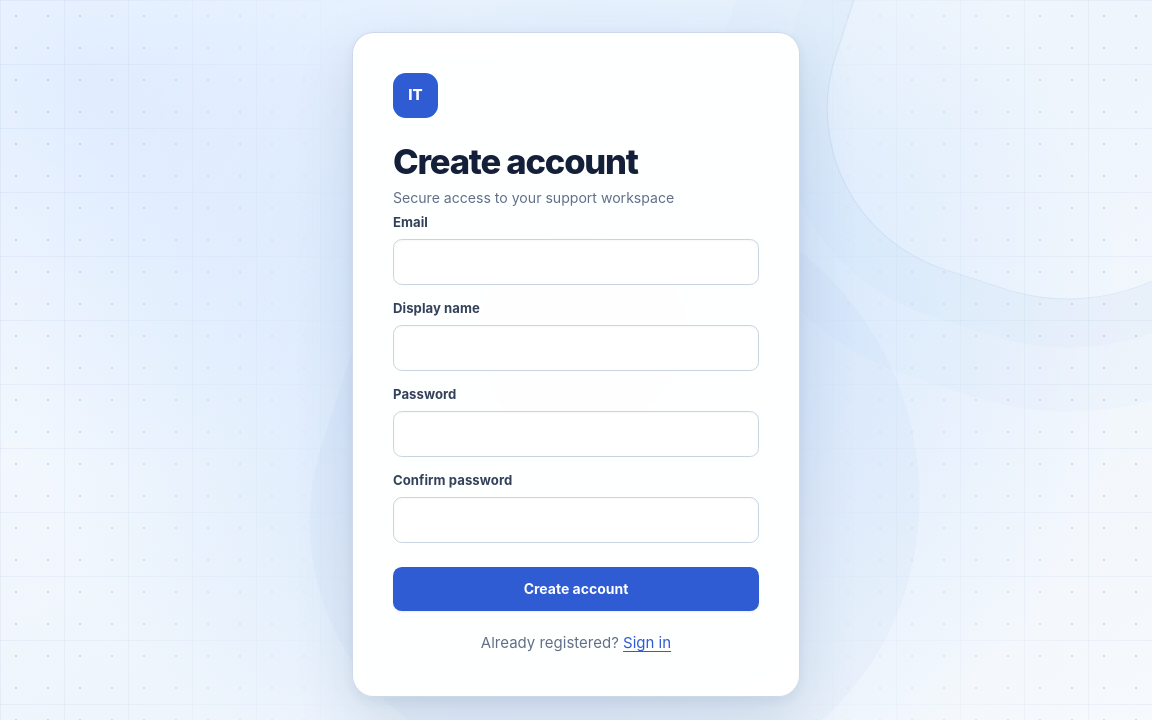
it: auth pages › validates password length and confirmation
Step 1. Type "a@b.test" into the field labelled "Email" → (576, 262), box [393, 239, 759, 285]
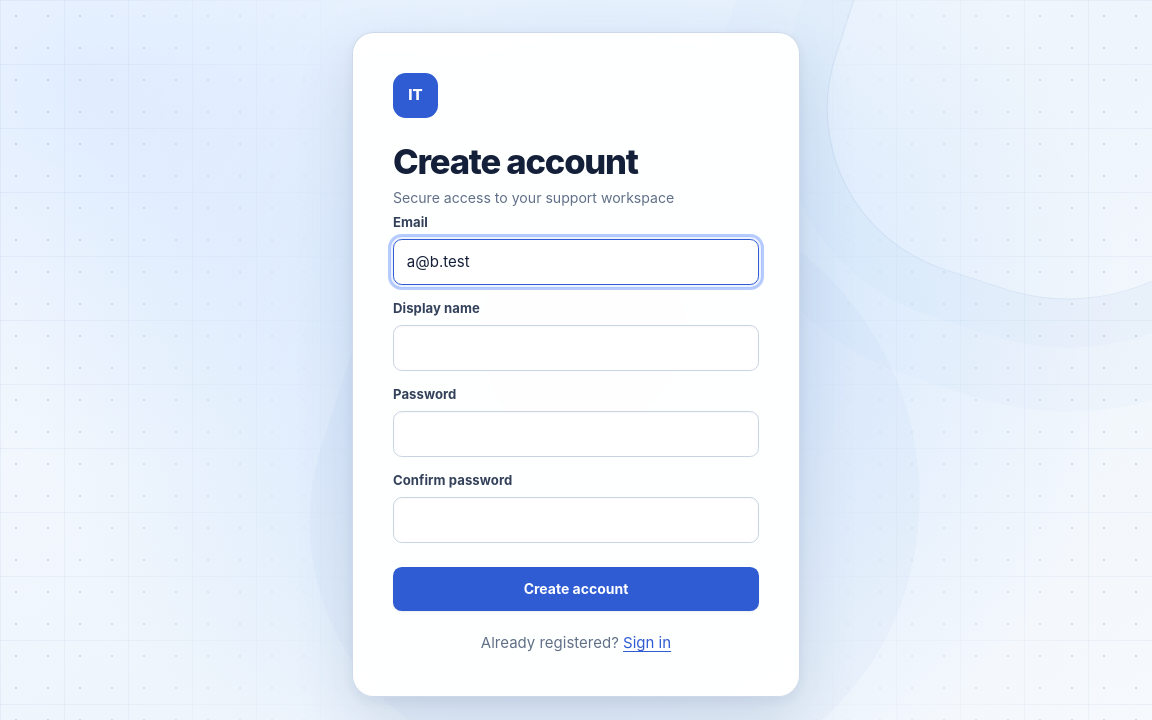
Step 2. Type "User" into the field labelled "Display name" → (576, 348), box [393, 325, 759, 371]
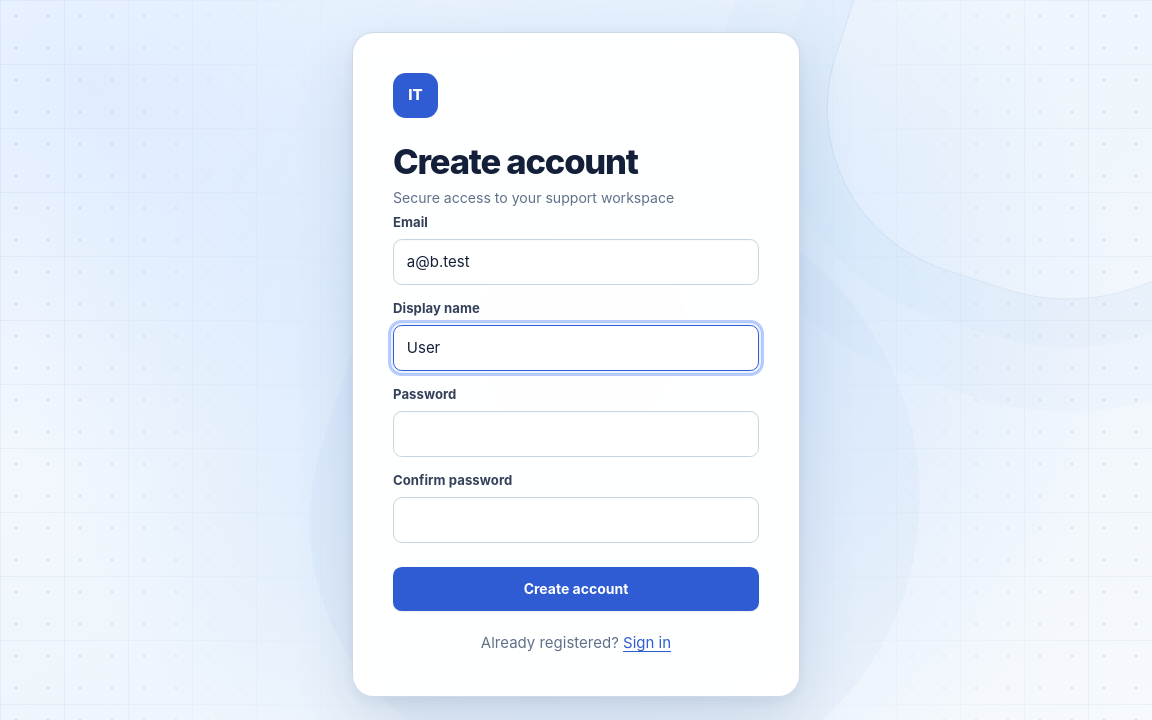
Step 3. Type "short" into the password field labelled "Password" → (576, 434), box [393, 411, 759, 457]
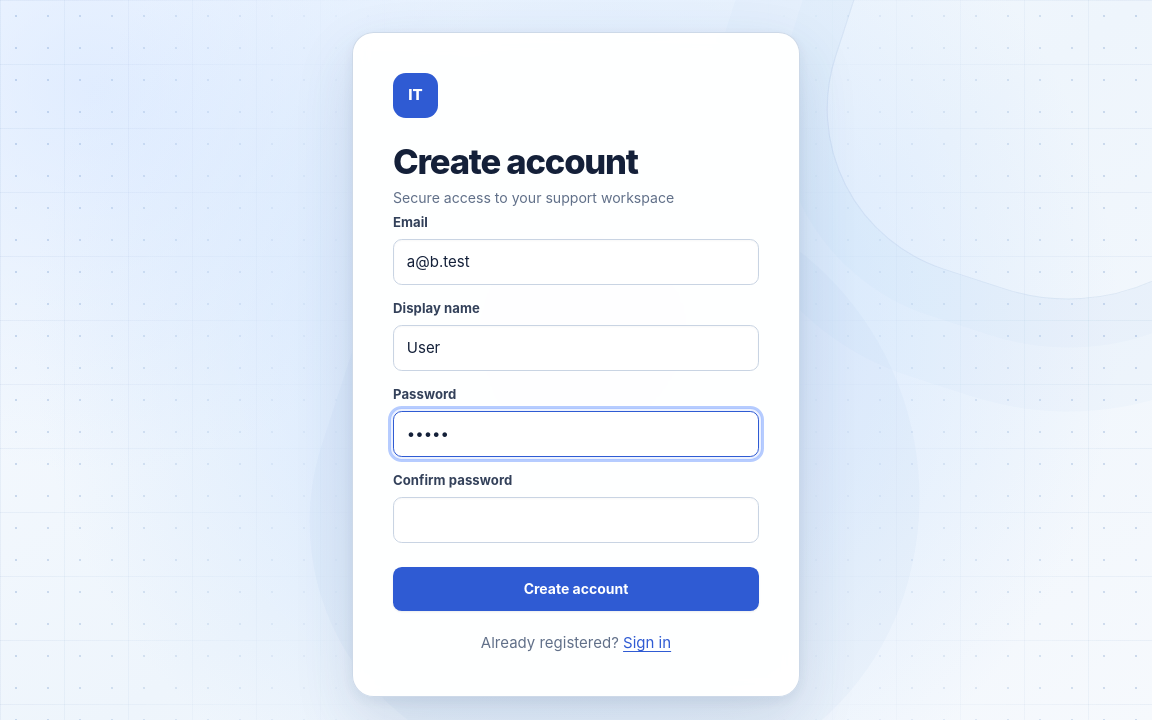
Step 4. Type "other" into the field labelled "Confirm password" → (576, 520), box [393, 497, 759, 543]
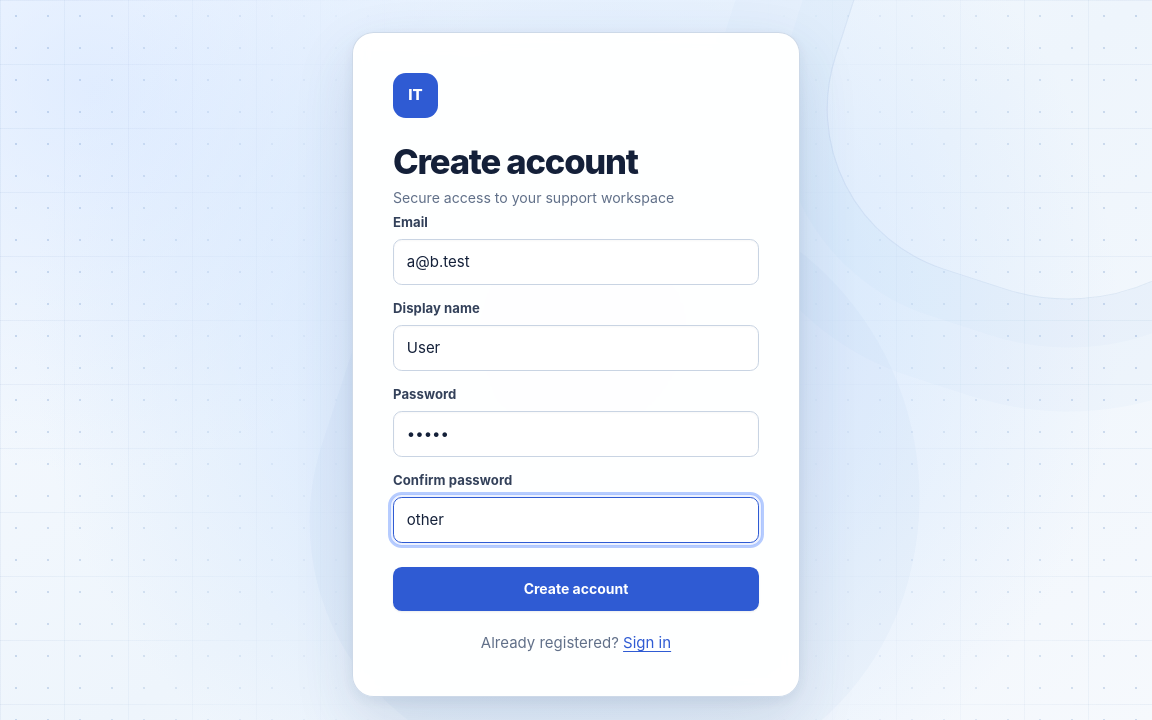
Step 5. Click the button "Create account" → (576, 589), box [393, 567, 759, 611]
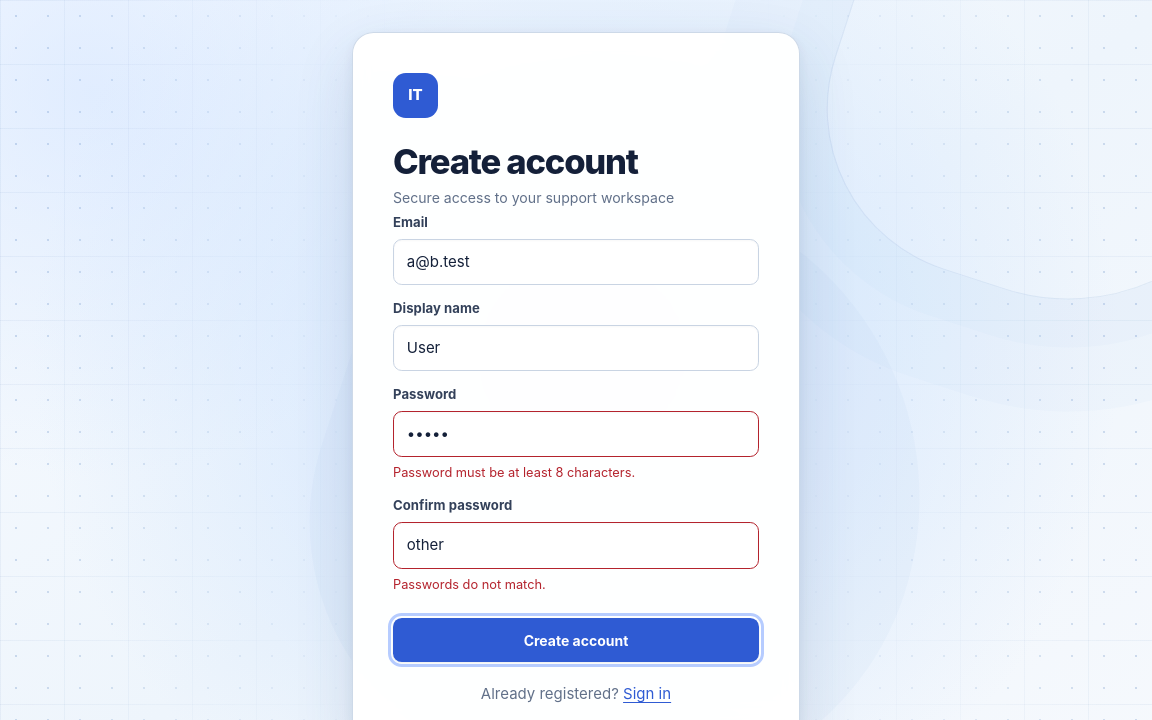
Now the text "Password must be at least 8 characters." is shown, box [393, 466, 635, 480]
Now the text "Passwords do not match." is shown, box [393, 577, 546, 592]
